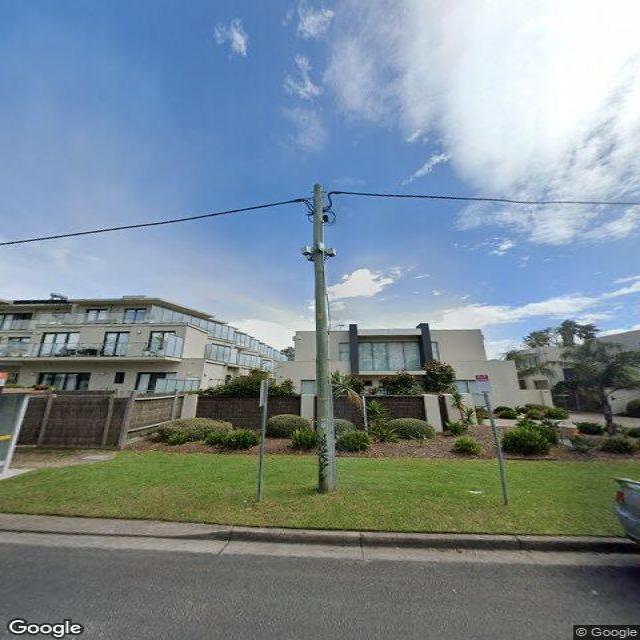timber-pole: (312, 183, 334, 496)
top mount suitable pole: (299, 182, 336, 496)
